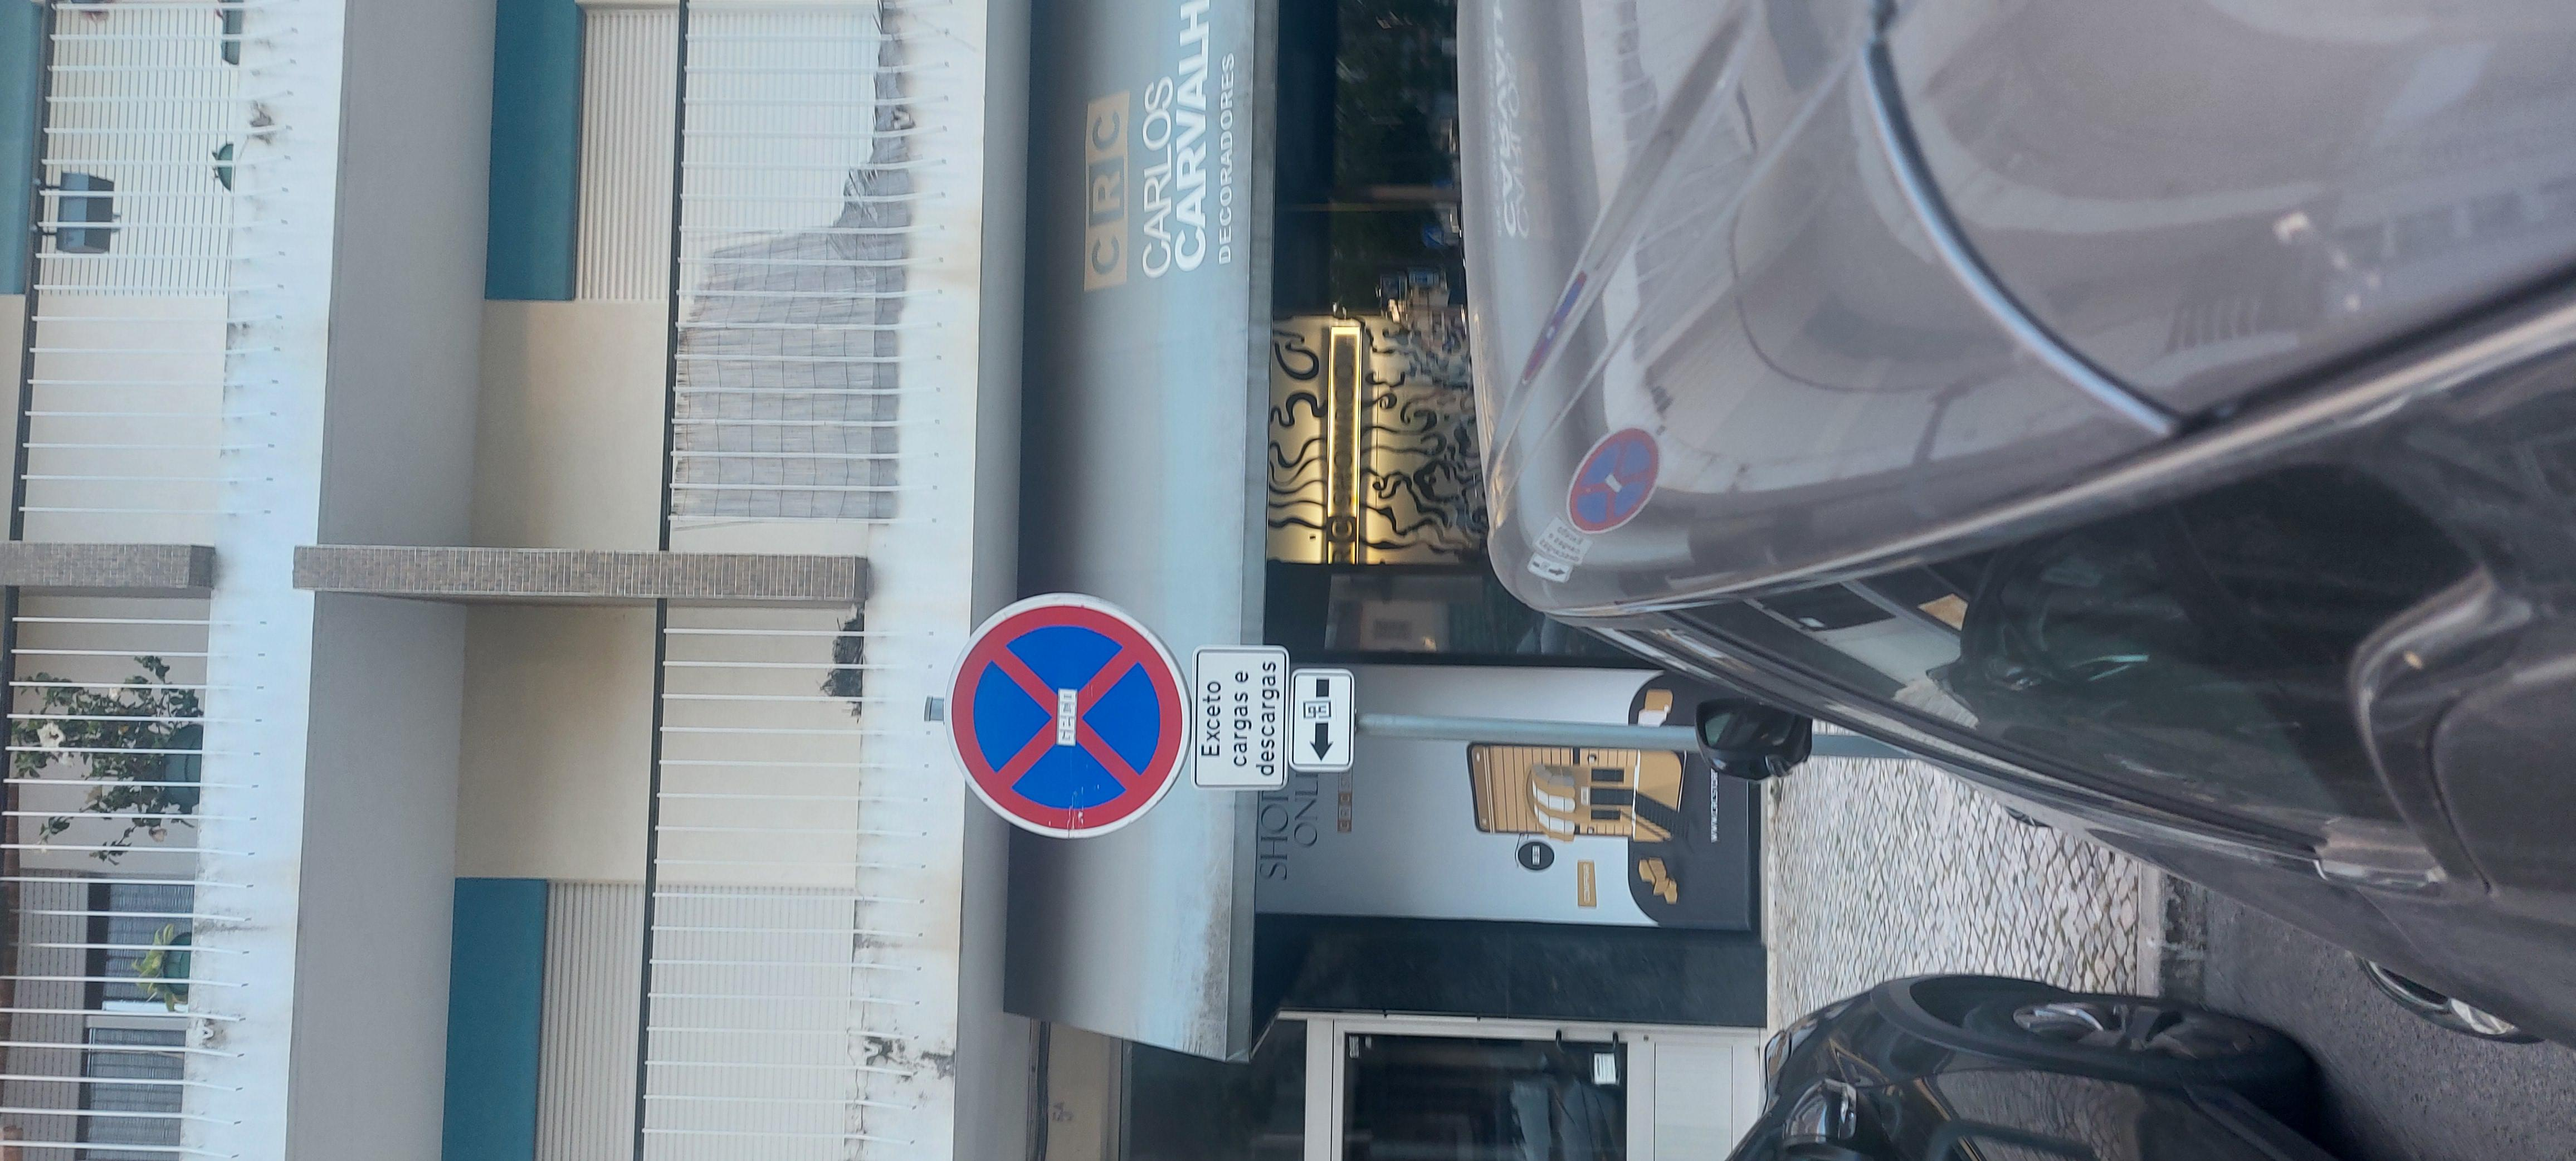paragem e estacionamento proibido: (649, 414, 1322, 548)
